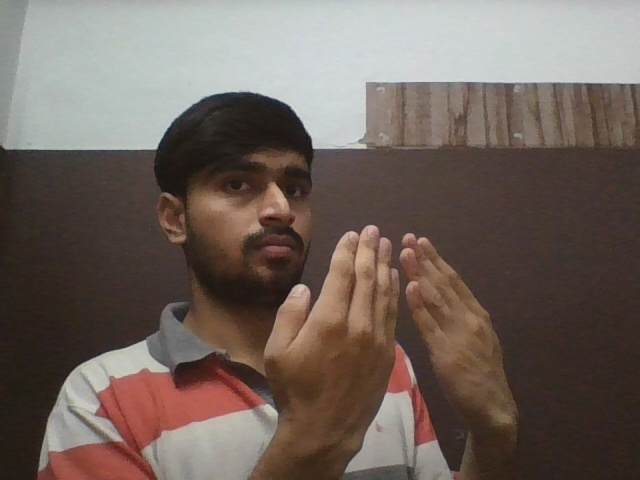Thankyou: (263, 223, 519, 438)
